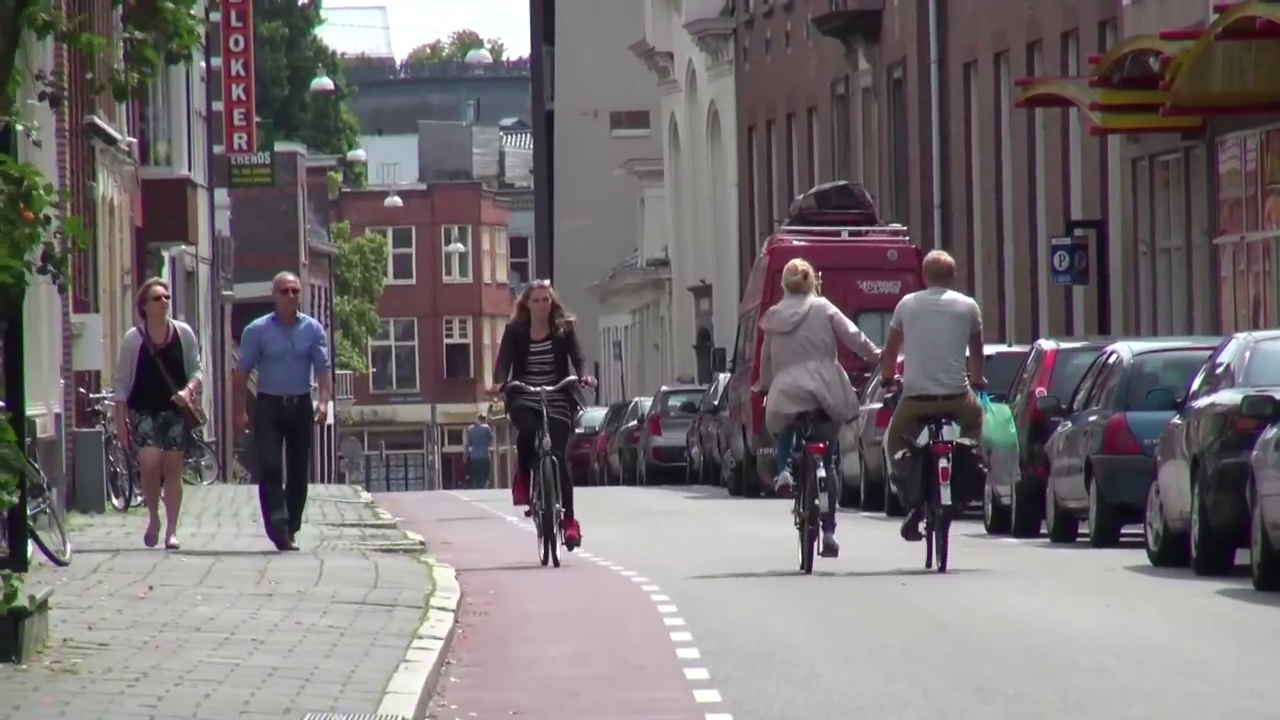cyclist_back: (751, 262, 881, 579), (888, 251, 993, 581)
cyclist_front: (497, 280, 599, 571)
